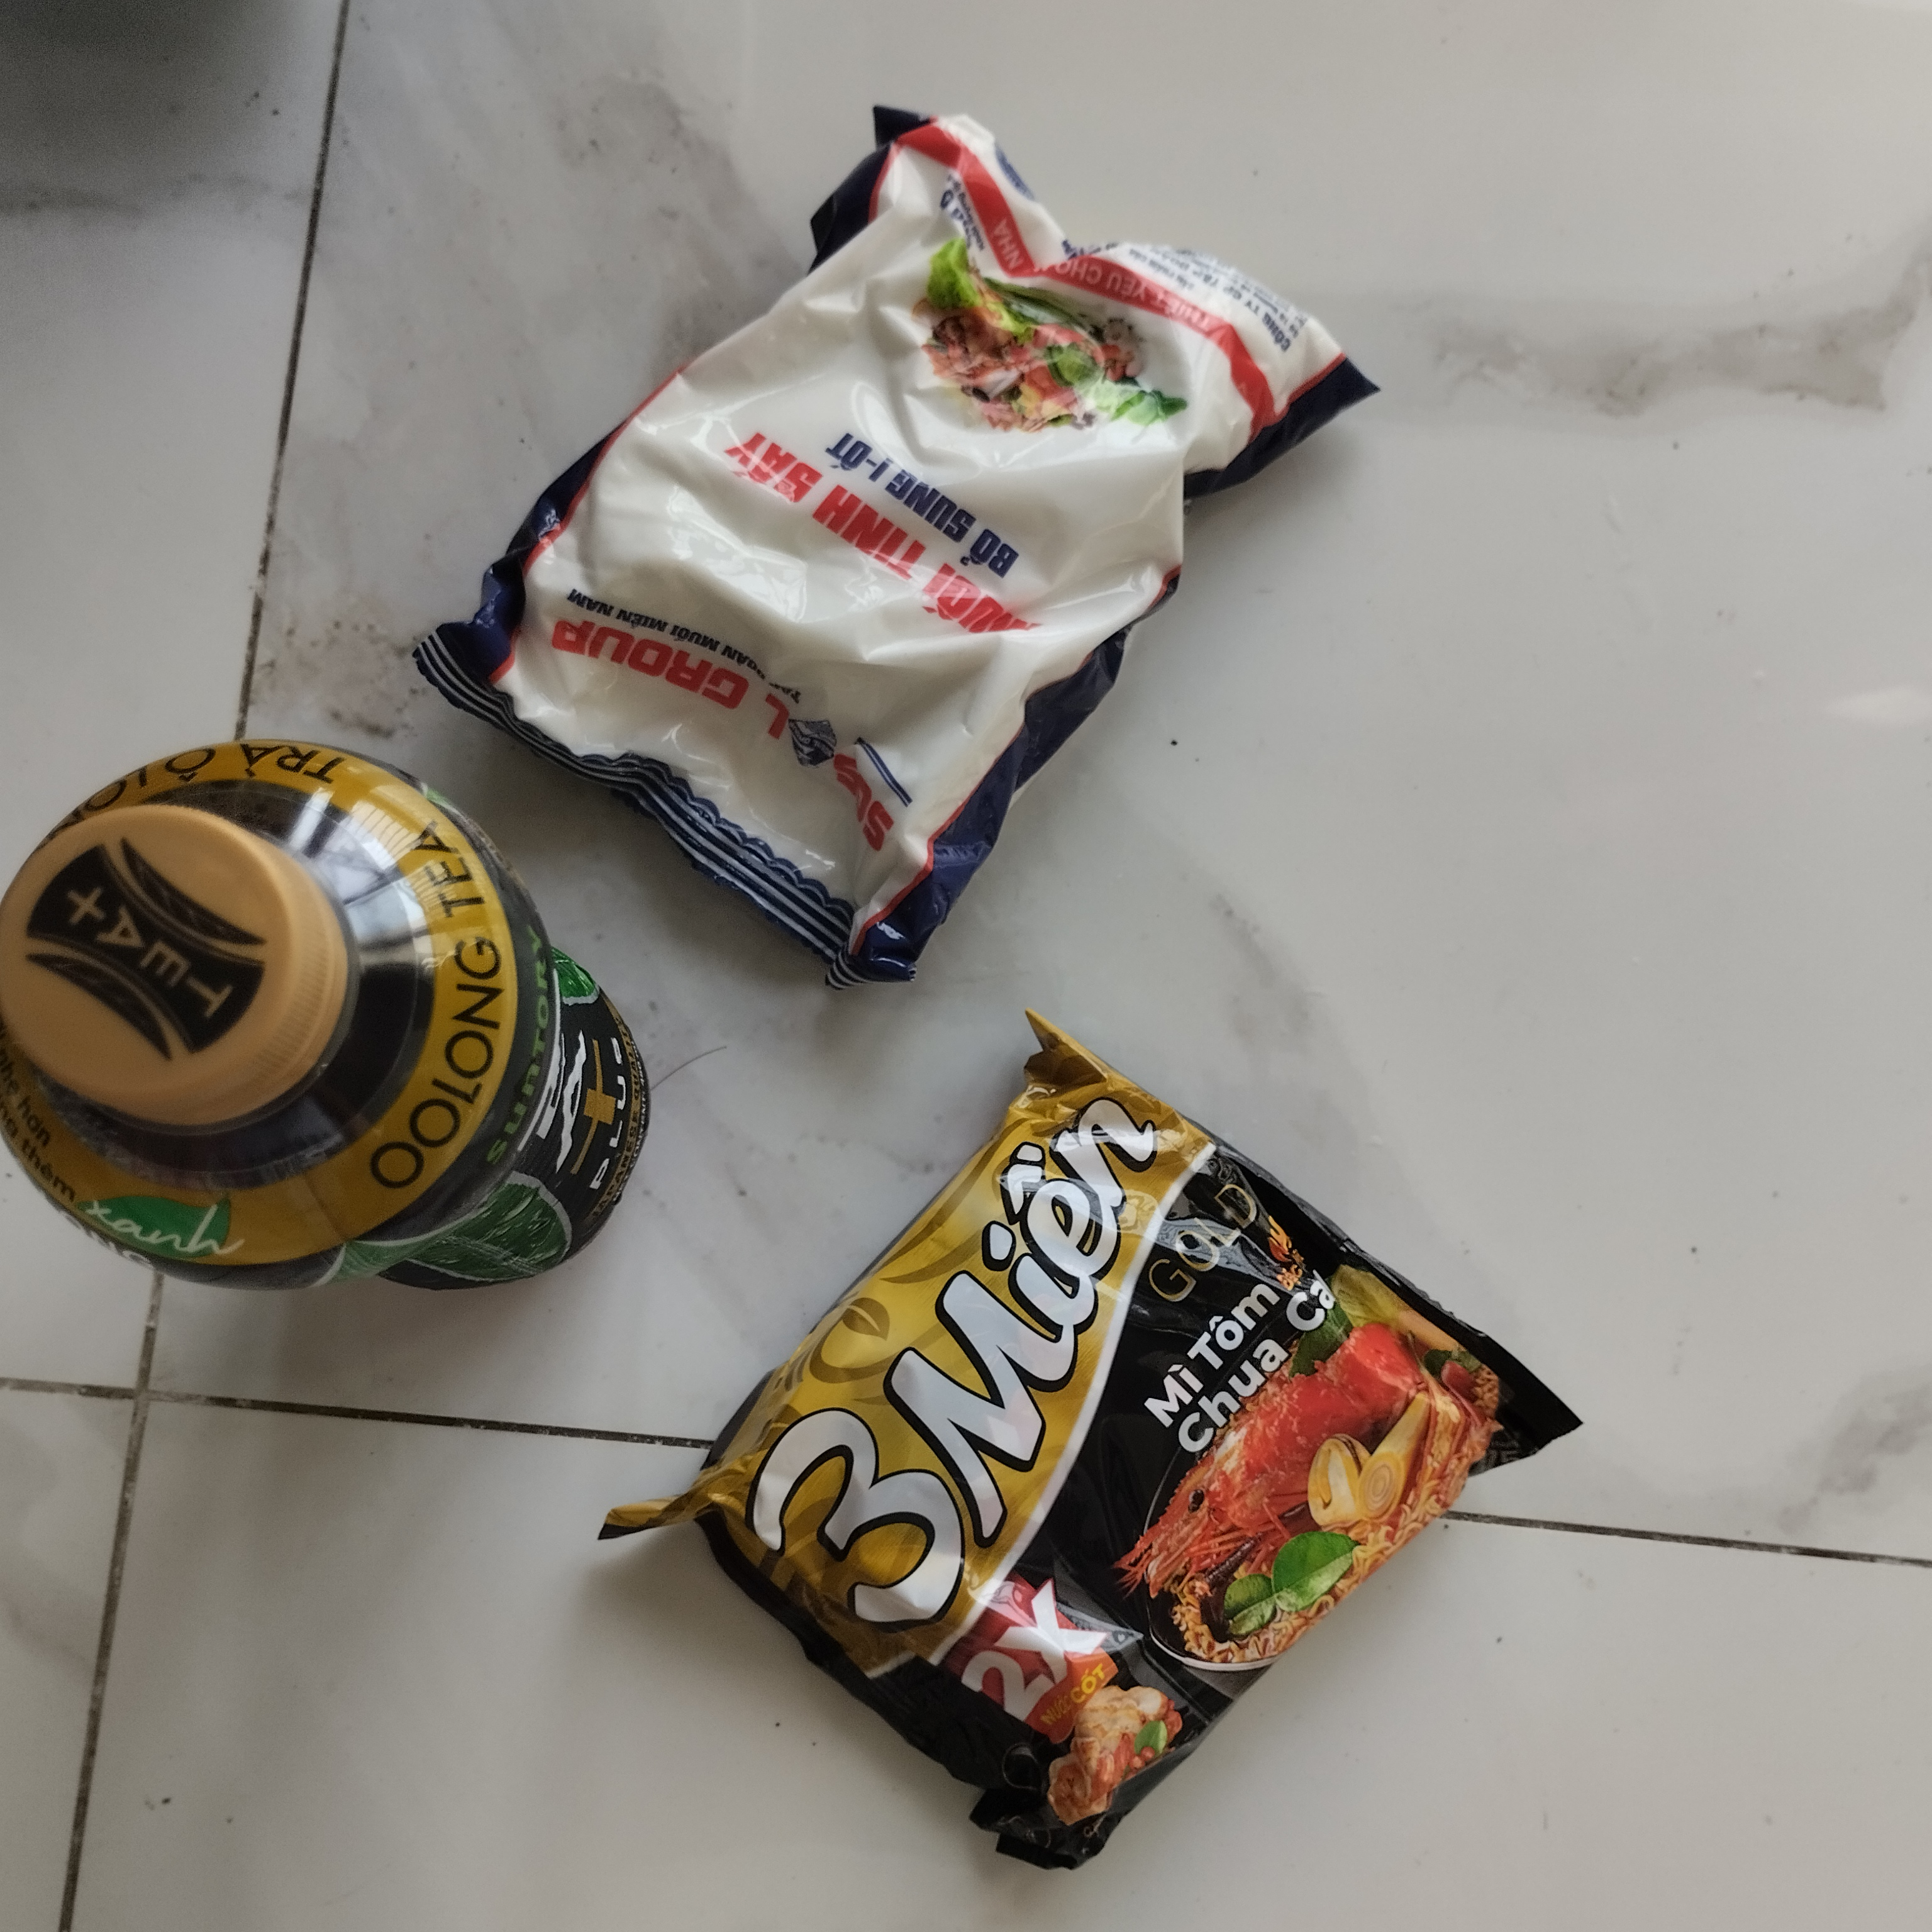3mien: (594, 1017, 1598, 1879)
Olong: (2, 736, 672, 1304)
Salt: (387, 92, 1380, 998)
